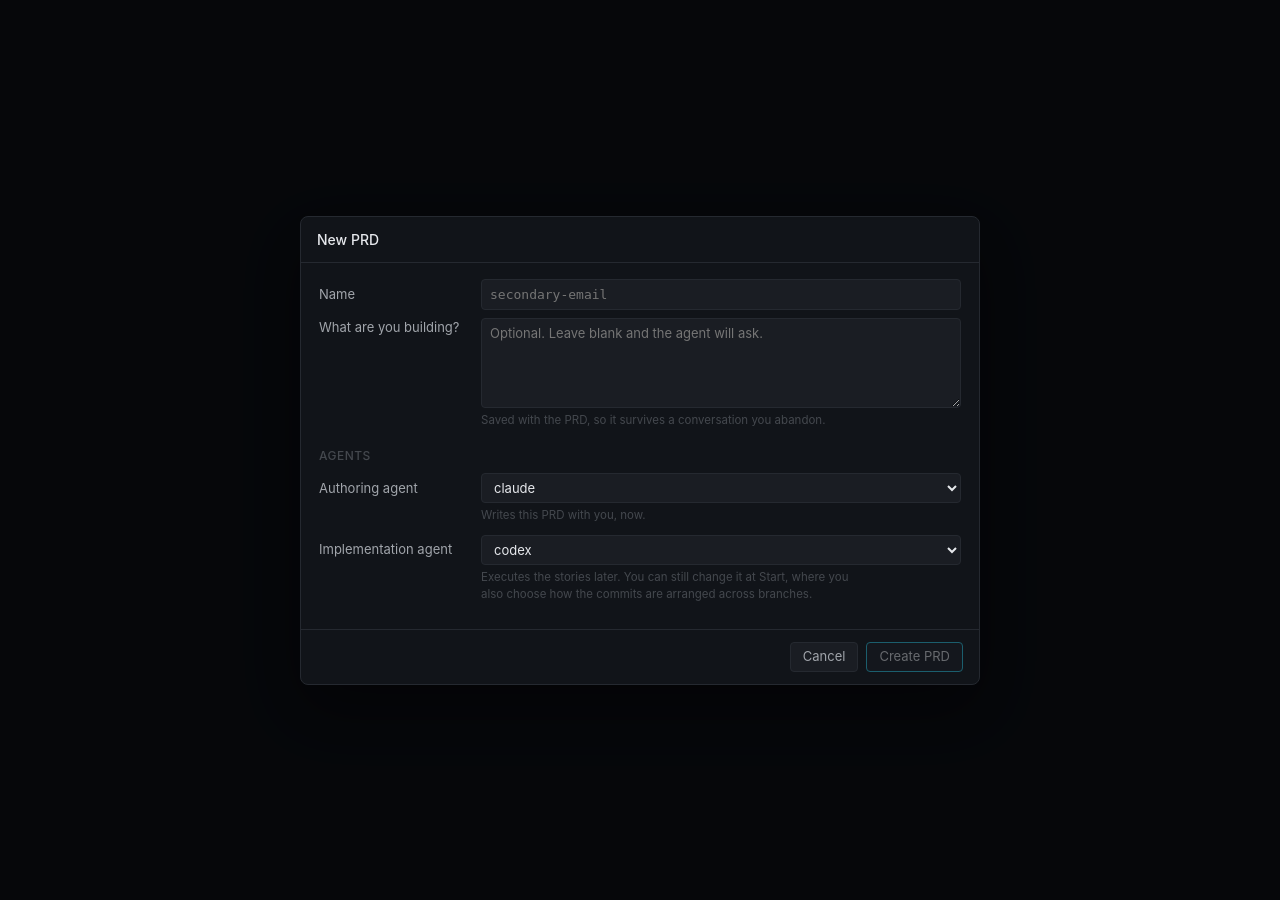
the New PRD dialog › refuses a name that is already taken
The width and height of the screenshot is (1280, 900).
Type "checkout" into the field with placeholder "secondary-email" at (721,294), box [481, 278, 961, 310]
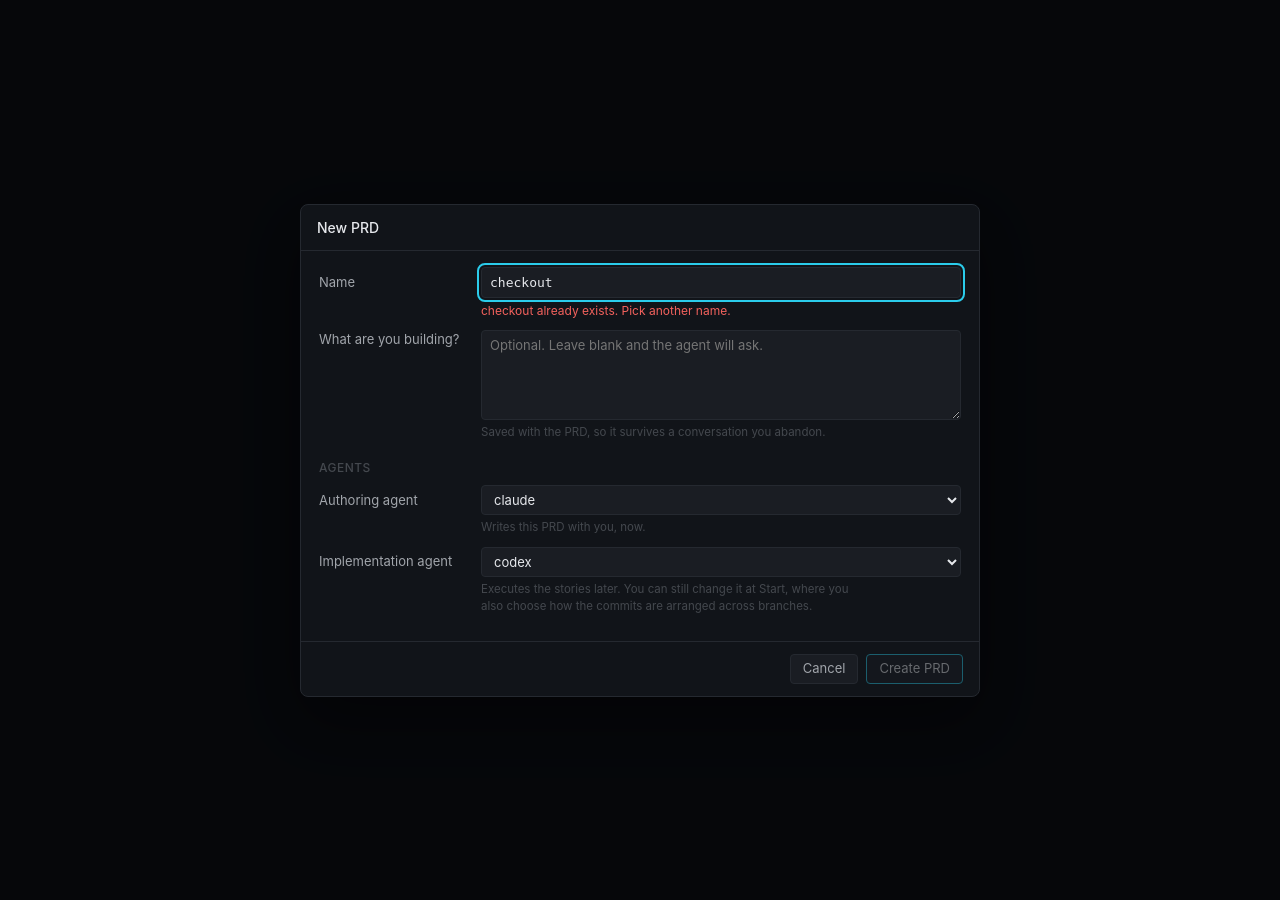
Expected: the button "Create PRD" is disabled, [866, 654, 963, 684]
Expected: the text "checkout already exists. Pick another name." is shown, [481, 303, 731, 318]
